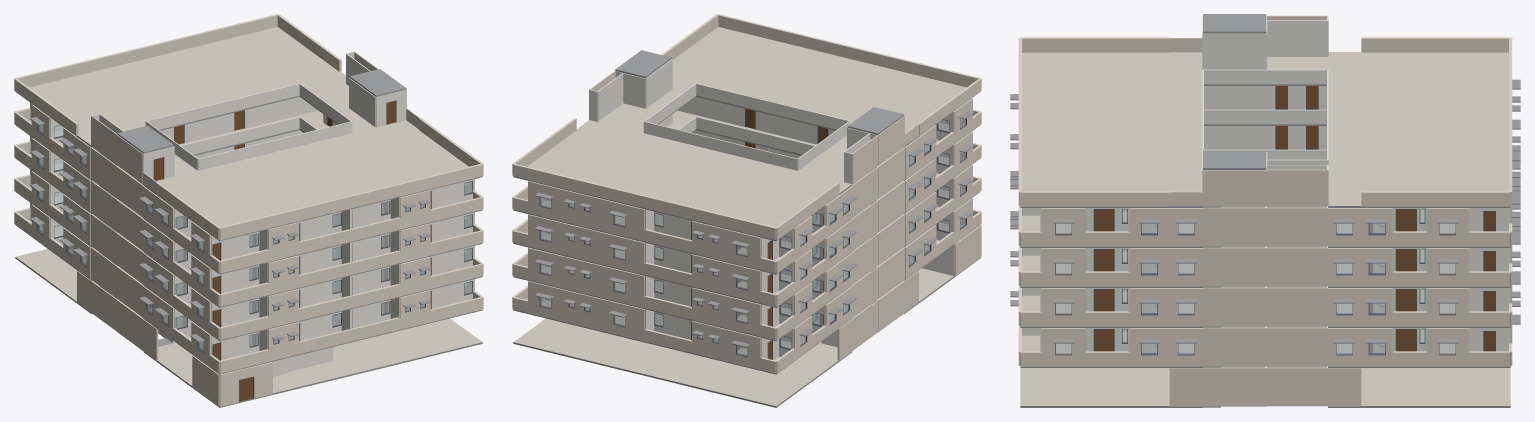
The model's file is RH_Browser_Acceptance.glb.
The picture shows the model from 3 angles, left to right: view 1: azimuth 30°, elevation 25°; view 2: azimuth 150°, elevation 25°; view 3: azimuth 270°, elevation 25°; orthographic projection. The views are drawn at different scales.
Parts seen in each view (by area): view 1: floor_terrace_05::terrace__solar_pv_array:floor-finish:8227, floor_terrace_05::terrace__open_waterproof_1:floor-finish:82, floor_terrace_05::terrace__open_waterproof_3:floor-finish:82, floor_terrace_05::terrace__open_waterproof_2:floor-finish:82, floor_terrace_05::terrace__yoga_deck_3:floor-finish:8232, floor_terrace_05::terrace__ohwt_tank:floor-finish:8223, floor_terrace_05::terrace__yoga_deck_2:floor-finish:8230, floor_terrace_05::terrace__yoga_deck_1:floor-finish:8228, floor_terrace_05::apt-wall:x:15050:7400:22600, floor_terrace_05::apt-wall:x:23950:7400:22600, floor_terrace_05::apt-wall:x:2000:2000:15000, floor_terrace_05::apt-wall:x:2000:15000:28000 (+109 smaller); view 2: floor_terrace_05::terrace__solar_pv_array:floor-finish:8227, floor_terrace_05::terrace__open_waterproof_1:floor-finish:82, floor_stilt_00::stilt__driveway_east_02:floor-finish:27, floor_stilt_00::stilt__driveway_east_03:floor-finish:34, floor_terrace_05::terrace__yoga_deck_3:floor-finish:8232, floor_terrace_05::terrace__corridor_vestibule_4:floor-finish, floor_terrace_05::terrace__yoga_deck_1:floor-finish:8228, floor_terrace_05::terrace__yoga_deck_2:floor-finish:8230, floor_terrace_05::terrace__open_waterproof_3:floor-finish:82, floor_terrace_05::terrace__open_waterproof_2:floor-finish:82, floor_terrace_05::apt-wall:x:23950:7400:22600, floor_terrace_05::apt-wall:x:15050:7400:22600 (+90 smaller); view 3: floor_terrace_05::terrace__solar_pv_array:floor-finish:8227, floor_terrace_05::terrace__open_waterproof_2:floor-finish:82, floor_terrace_05::terrace__corridor_vestibule_4:floor-finish, floor_terrace_05::terrace__yoga_deck_2:floor-finish:8230, floor_terrace_05::terrace__open_waterproof_1:floor-finish:82, floor_terrace_05::terrace__open_waterproof_3:floor-finish:82, floor_terrace_05::terrace__ohwt_tank:floor-finish:8223, floor_terrace_05::terrace__yoga_deck_3:floor-finish:8232, floor_terrace_05::terrace__yoga_deck_1:floor-finish:8228, floor_stilt_00::stilt__driveway_east_01:floor-finish:20, floor_stilt_00::stilt__driveway_east_03:floor-finish:34, floor_level_03::apt-wall:y:28000:15050:19550 (+93 smaller).
Part boxes in pixels (bbox=[...]): floor_terrace_05::terrace__solar_pv_array:floor-finish:8227: bbox=[171, 162, 338, 227]; floor_terrace_05::terrace__open_waterproof_1:floor-finish:82: bbox=[289, 130, 452, 186]; floor_terrace_05::terrace__open_waterproof_3:floor-finish:82: bbox=[148, 27, 310, 82]; floor_terrace_05::terrace__open_waterproof_2:floor-finish:82: bbox=[29, 58, 180, 111]; floor_terrace_05::terrace__yoga_deck_3:floor-finish:8232: bbox=[181, 51, 338, 103]; floor_terrace_05::terrace__ohwt_tank:floor-finish:8223: bbox=[156, 120, 418, 190]; floor_terrace_05::terrace__yoga_deck_2:floor-finish:8230: bbox=[63, 83, 208, 135]; floor_terrace_05::terrace__yoga_deck_1:floor-finish:8228: bbox=[323, 155, 468, 198]; floor_terrace_05::apt-wall:x:15050:7400:22600: bbox=[198, 121, 351, 170]; floor_terrace_05::apt-wall:x:23950:7400:22600: bbox=[146, 83, 299, 129]; floor_terrace_05::apt-wall:x:2000:2000:15000: bbox=[219, 195, 351, 240]; floor_terrace_05::apt-wall:x:2000:15000:28000: bbox=[351, 164, 483, 207]; floor_terrace_05::terrace__solar_pv_array:floor-finish:8227: bbox=[787, 58, 966, 132]; floor_terrace_05::terrace__open_waterproof_1:floor-finish:82: bbox=[672, 47, 820, 103]; floor_stilt_00::stilt__driveway_east_02:floor-finish:27: bbox=[645, 350, 808, 406]; floor_stilt_00::stilt__driveway_east_03:floor-finish:34: bbox=[513, 318, 676, 374]; floor_terrace_05::terrace__yoga_deck_3:floor-finish:8232: bbox=[549, 130, 706, 182]; floor_terrace_05::terrace__corridor_vestibule_4:floor-finish: bbox=[576, 120, 851, 192]; floor_terrace_05::terrace__yoga_deck_1:floor-finish:8228: bbox=[691, 27, 847, 78]; floor_terrace_05::terrace__yoga_deck_2:floor-finish:8230: bbox=[679, 162, 824, 211]; floor_terrace_05::terrace__open_waterproof_3:floor-finish:82: bbox=[527, 151, 678, 198]; floor_terrace_05::terrace__open_waterproof_2:floor-finish:82: bbox=[657, 182, 796, 227]; floor_terrace_05::apt-wall:x:23950:7400:22600: bbox=[644, 121, 797, 170]; floor_terrace_05::apt-wall:x:15050:7400:22600: bbox=[696, 83, 849, 129]; floor_terrace_05::terrace__solar_pv_array:floor-finish:8227: bbox=[1022, 52, 1169, 128]; floor_terrace_05::terrace__open_waterproof_2:floor-finish:82: bbox=[1428, 52, 1508, 128]; floor_terrace_05::terrace__corridor_vestibule_4:floor-finish: bbox=[1328, 52, 1361, 205]; floor_terrace_05::terrace__yoga_deck_2:floor-finish:8230: bbox=[1361, 52, 1428, 128]; floor_terrace_05::terrace__open_waterproof_1:floor-finish:82: bbox=[1087, 129, 1169, 191]; floor_terrace_05::terrace__open_waterproof_3:floor-finish:82: bbox=[1428, 129, 1508, 191]; floor_terrace_05::terrace__ohwt_tank:floor-finish:8223: bbox=[1169, 52, 1202, 191]; floor_terrace_05::terrace__yoga_deck_3:floor-finish:8232: bbox=[1361, 129, 1428, 191]; floor_terrace_05::terrace__yoga_deck_1:floor-finish:8228: bbox=[1022, 129, 1087, 191]; floor_stilt_00::stilt__driveway_east_01:floor-finish:20: bbox=[1090, 368, 1169, 405]; floor_stilt_00::stilt__driveway_east_03:floor-finish:34: bbox=[1431, 368, 1510, 405]; floor_level_03::apt-wall:y:28000:15050:19550: bbox=[1203, 247, 1266, 286].
Size of the model in its own units: 27.43 by 18.9 by 36.43.
